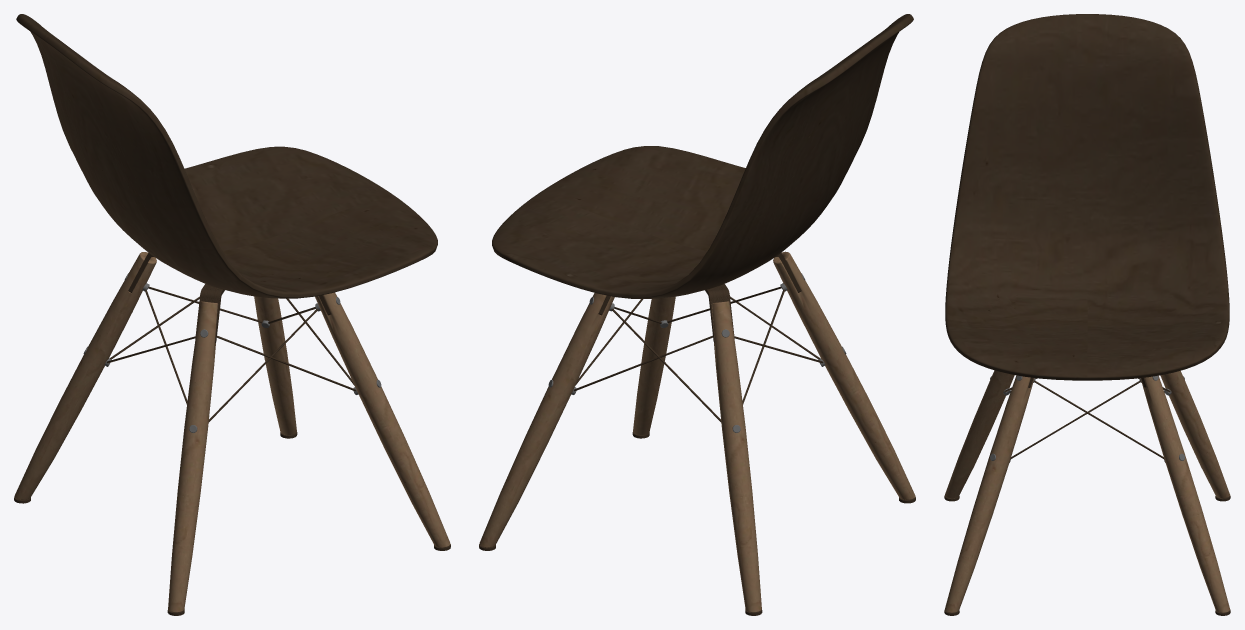
File: chair01.glb
The picture shows the model from 3 angles, left to right: view 1: azimuth 30°, elevation 25°; view 2: azimuth 150°, elevation 25°; view 3: azimuth 270°, elevation 25°; orthographic projection. The views are drawn at different scales.
Parts seen in each view (by area): view 1: chair01; view 2: chair01; view 3: chair01.
Part boxes in pixels (x1,y1,x2,y2): chair01: (14, 14, 450, 615); chair01: (479, 14, 915, 615); chair01: (944, 14, 1230, 615).
Bounding box in the file's own units: 0.4773 × 0.6883 × 0.3842.
3 materials, 2 textured.
